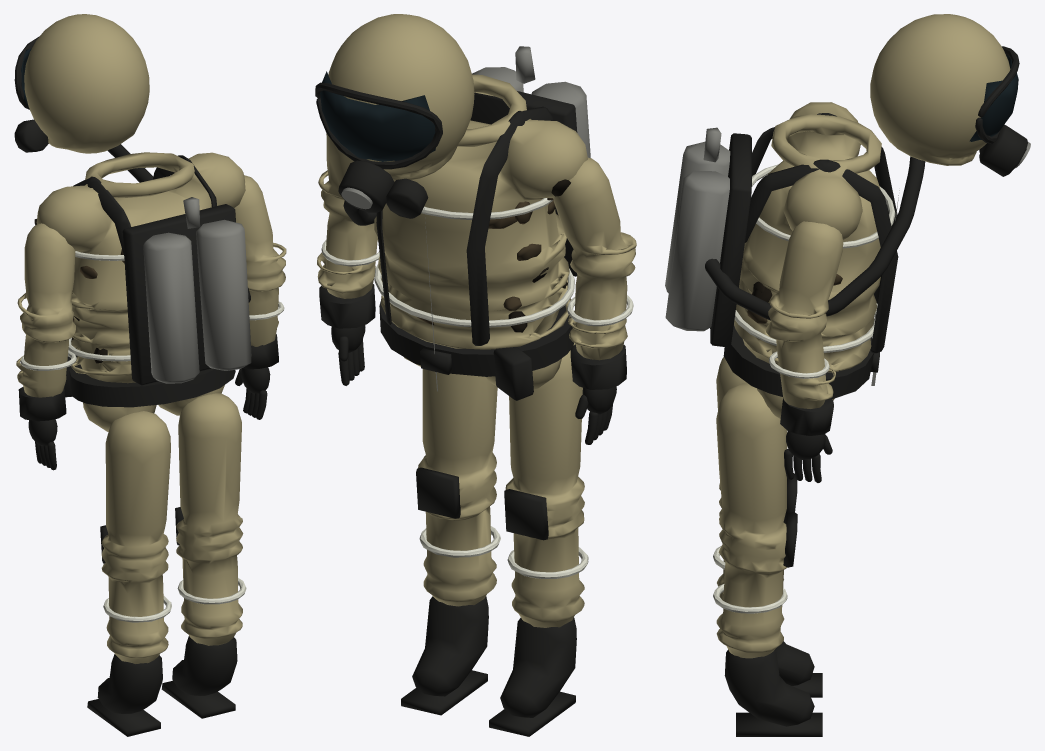
File: wanderer.glb
3 renders of one model, left to right at view 1: azimuth 30°, elevation 25°; view 2: azimuth 150°, elevation 25°; view 3: azimuth 270°, elevation 25°, orthographic. The views are drawn at different scales.
Parts seen in each view (by area): view 1: wanderer_body, wanderer_metal, wanderer_legL_leg, wanderer_legR_leg, wanderer_hood, wanderer_gear, wanderer_armL_sleeve, wanderer_armR_sleeve, wanderer_legR_boot, wanderer_legL_boot, wanderer_armL_glove, wanderer_armR_glove (+5 smaller); view 2: wanderer_body, wanderer_legL_leg, wanderer_legR_leg, wanderer_gear, wanderer_hood, wanderer_armL_sleeve, wanderer_legR_boot, wanderer_legL_boot, wanderer_visor, wanderer_mask, wanderer_armR_sleeve, wanderer_armL_glove (+8 smaller); view 3: wanderer_body, wanderer_legR_leg, wanderer_hood, wanderer_gear, wanderer_armR_sleeve, wanderer_metal, wanderer_legR_boot, wanderer_hose, wanderer_armR_glove, wanderer_mask, wanderer_legL_boot, wanderer_stripes (+3 smaller).
Boxes of the visible parts, x1=… form: wanderer_body: x1=36, y1=152, x2=245, y2=431; wanderer_metal: x1=143, y1=197, x2=251, y2=383; wanderer_legL_leg: x1=101, y1=411, x2=170, y2=663; wanderer_legR_leg: x1=176, y1=393, x2=243, y2=645; wanderer_hood: x1=24, y1=14, x2=149, y2=153; wanderer_gear: x1=64, y1=155, x2=235, y2=407; wanderer_armL_sleeve: x1=16, y1=223, x2=75, y2=397; wanderer_armR_sleeve: x1=234, y1=175, x2=286, y2=346; wanderer_legR_boot: x1=161, y1=507, x2=237, y2=718; wanderer_legL_boot: x1=87, y1=525, x2=162, y2=736; wanderer_armL_glove: x1=18, y1=387, x2=66, y2=470; wanderer_armR_glove: x1=235, y1=334, x2=278, y2=419; wanderer_body: x1=374, y1=74, x2=587, y2=389; wanderer_legL_leg: x1=505, y1=343, x2=584, y2=627; wanderer_legR_leg: x1=418, y1=369, x2=497, y2=606; wanderer_gear: x1=376, y1=91, x2=577, y2=400; wanderer_hood: x1=328, y1=14, x2=474, y2=180; wanderer_armL_sleeve: x1=553, y1=157, x2=636, y2=360; wanderer_legR_boot: x1=401, y1=467, x2=488, y2=715; wanderer_legL_boot: x1=489, y1=489, x2=576, y2=736; wanderer_visor: x1=320, y1=71, x2=435, y2=161; wanderer_mask: x1=315, y1=82, x2=442, y2=218; wanderer_armR_sleeve: x1=317, y1=133, x2=377, y2=298; wanderer_armL_glove: x1=570, y1=344, x2=626, y2=444; wanderer_body: x1=734, y1=102, x2=881, y2=418; wanderer_legR_leg: x1=716, y1=383, x2=787, y2=658; wanderer_hood: x1=870, y1=14, x2=1010, y2=165; wanderer_gear: x1=710, y1=113, x2=898, y2=398; wanderer_armR_sleeve: x1=766, y1=221, x2=843, y2=408; wanderer_metal: x1=665, y1=127, x2=899, y2=385; wanderer_legR_boot: x1=724, y1=512, x2=822, y2=736; wanderer_hose: x1=705, y1=156, x2=925, y2=320; wanderer_armR_glove: x1=780, y1=397, x2=833, y2=482; wanderer_mask: x1=975, y1=46, x2=1027, y2=176; wanderer_legL_boot: x1=775, y1=473, x2=822, y2=697; wanderer_stripes: x1=734, y1=164, x2=895, y2=352.
Bounding box in the file's own units: 0.7356 × 1.71 × 0.8228.
